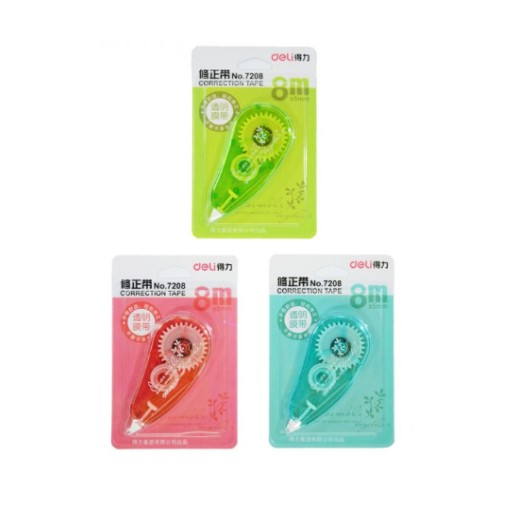Correction_fluid: (203, 99, 299, 228), (123, 311, 217, 439), (283, 314, 372, 437)
